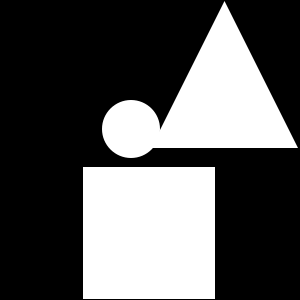circle: (83, 167, 215, 299)
rectangle: (102, 100, 160, 158)
triangle: (151, 1, 298, 148)
